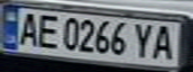0: (57, 15, 81, 52)
2: (75, 17, 96, 54)
6: (109, 20, 133, 56), (93, 18, 115, 55)
A: (148, 21, 181, 61), (12, 10, 42, 46)
E: (33, 11, 63, 50)
Y: (130, 20, 160, 60)
